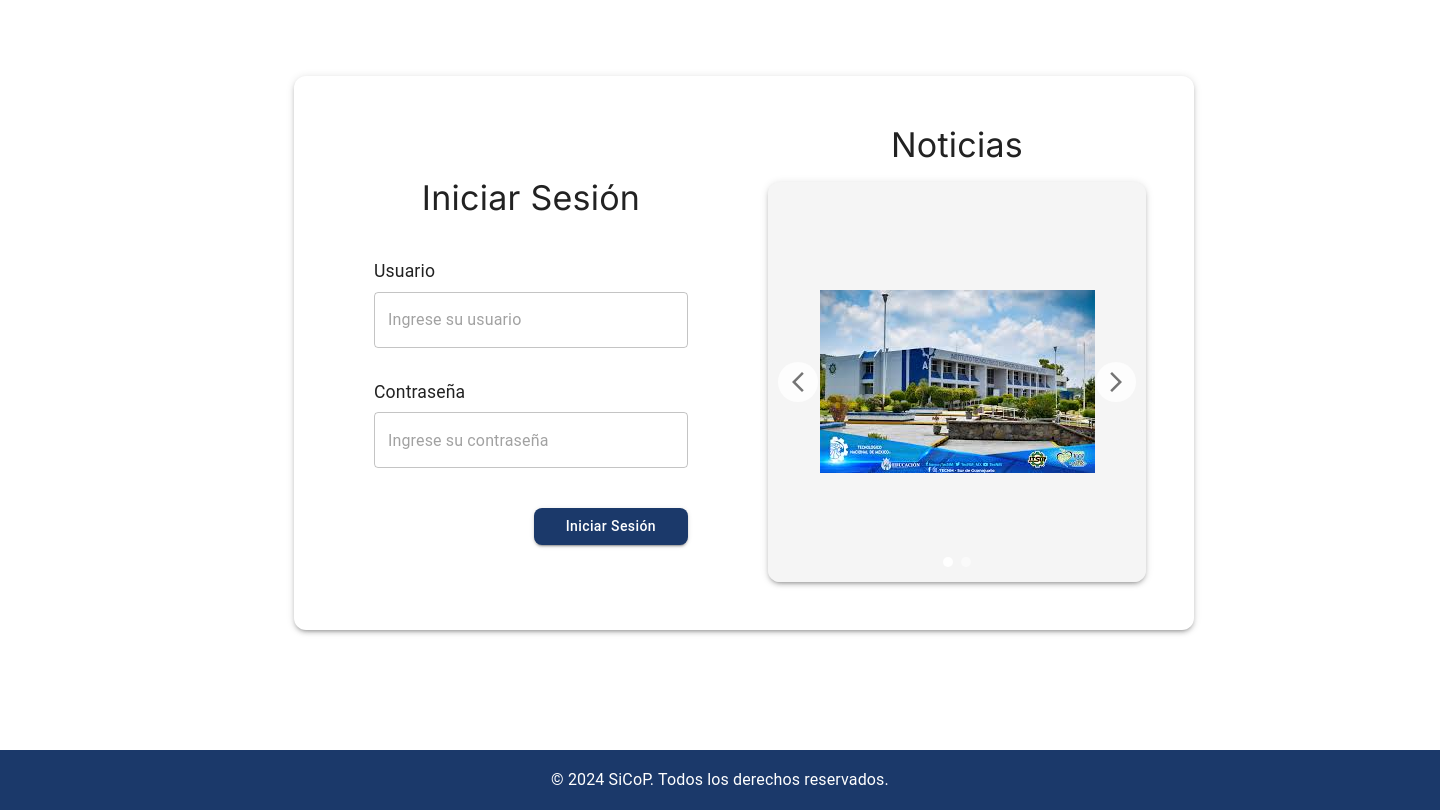
Test: muestra modal de error cuando doLogin devuelve falsy
In the field with placeholder "Ingrese su usuario": (531, 320) left=374, top=292, right=688, bottom=348, type "noex"
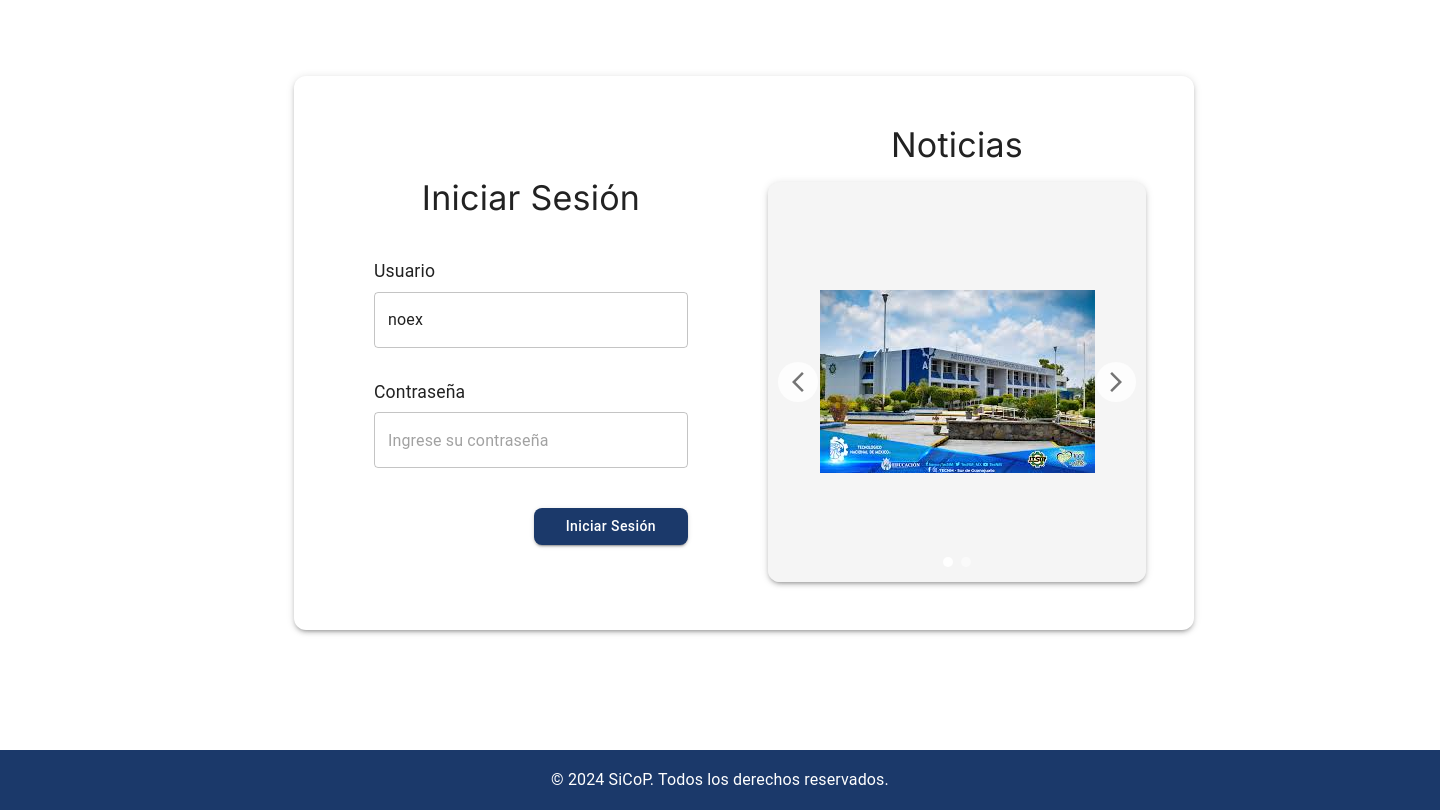
In the password field with placeholder "Ingrese su contraseña": (531, 440) left=374, top=412, right=688, bottom=468, type "bad"
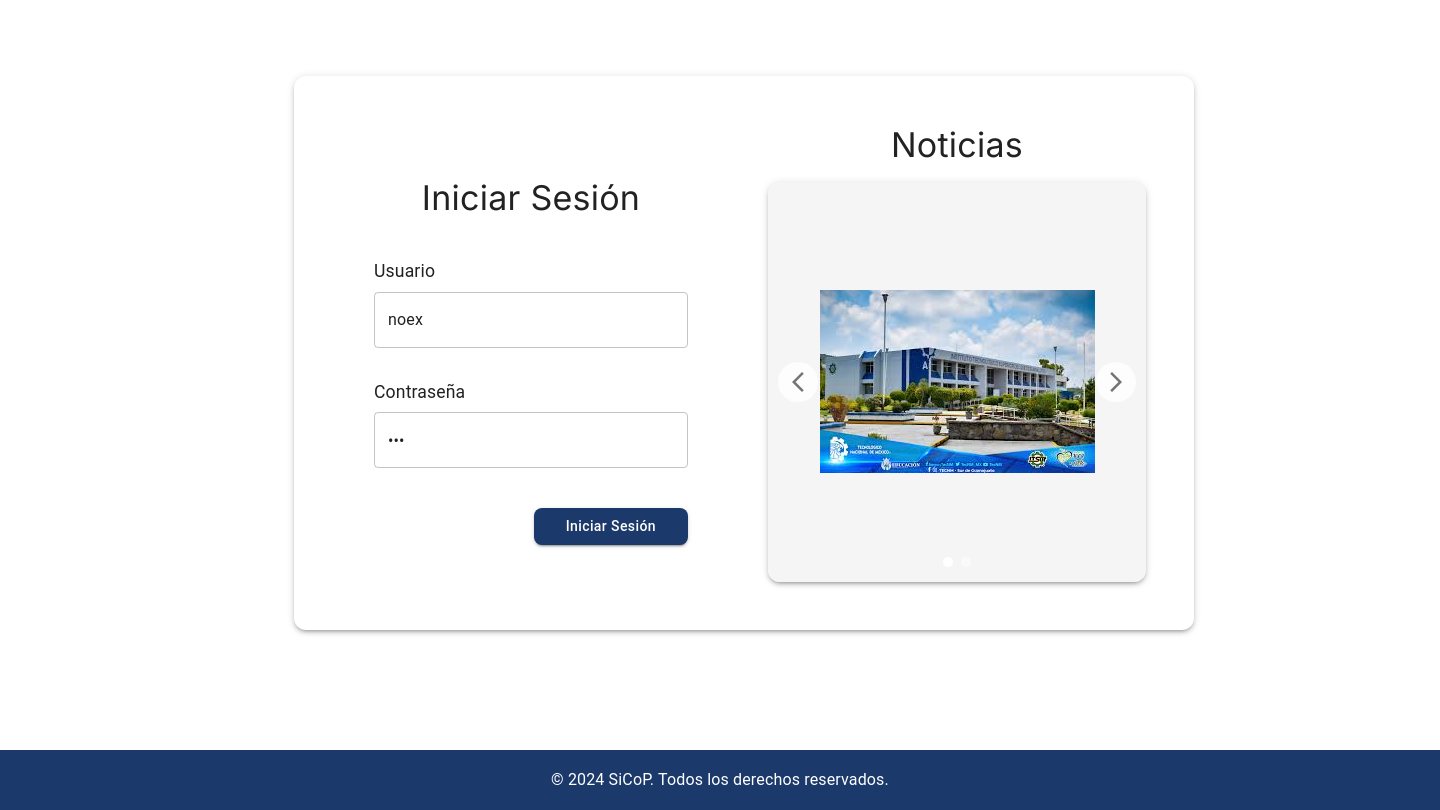
Click the button "Iniciar Sesión": click(611, 526) left=534, top=508, right=688, bottom=545
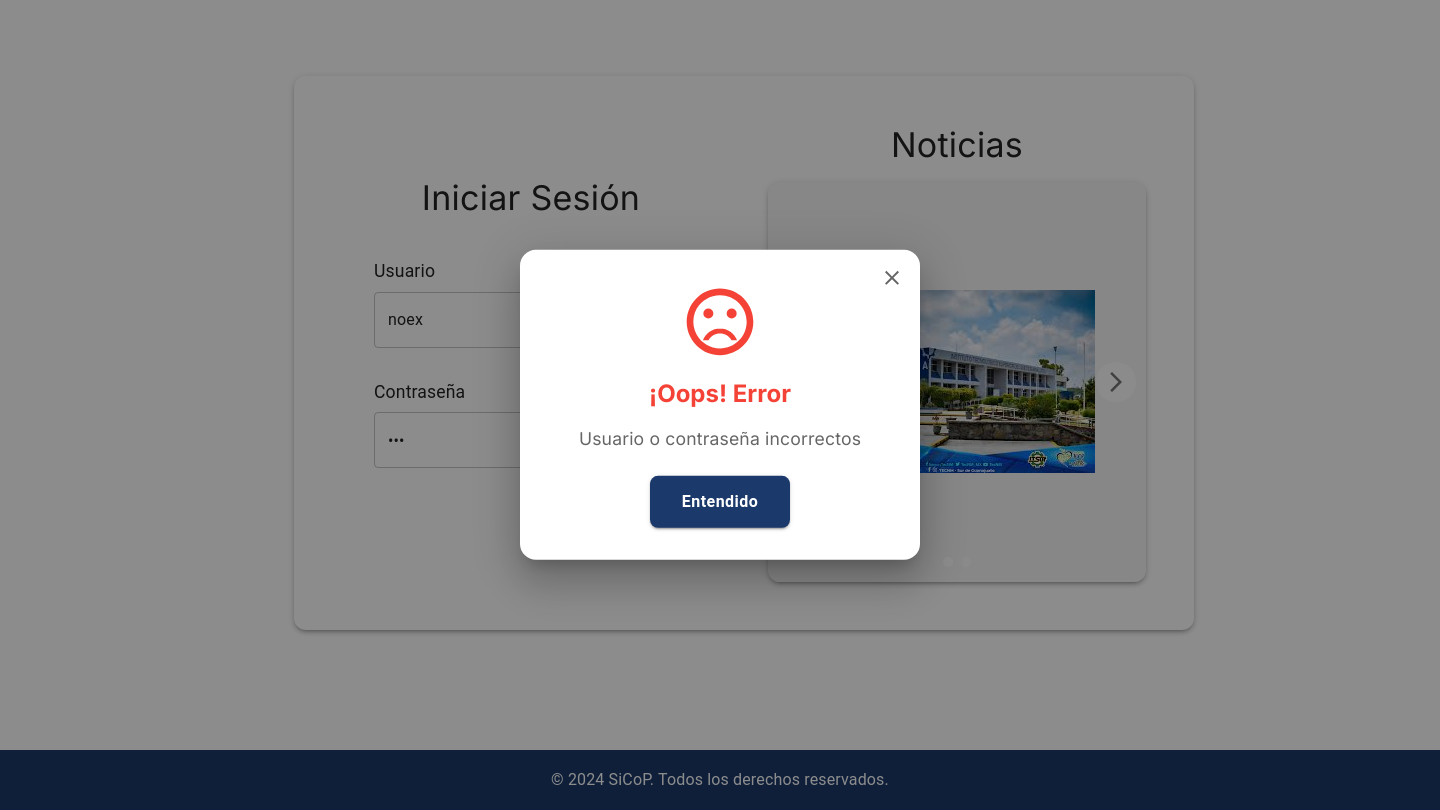
Expected: the text "Usuario o contraseña incorrectos" is shown, left=579, top=428, right=861, bottom=449
